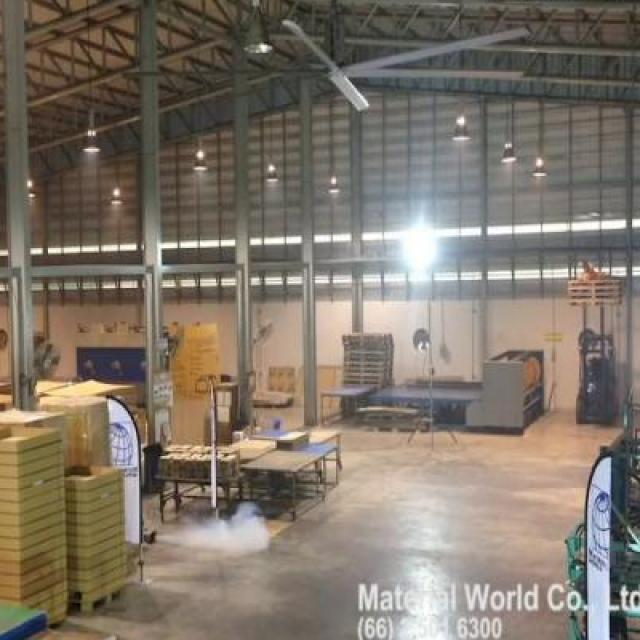fire: (193, 502, 276, 557)
